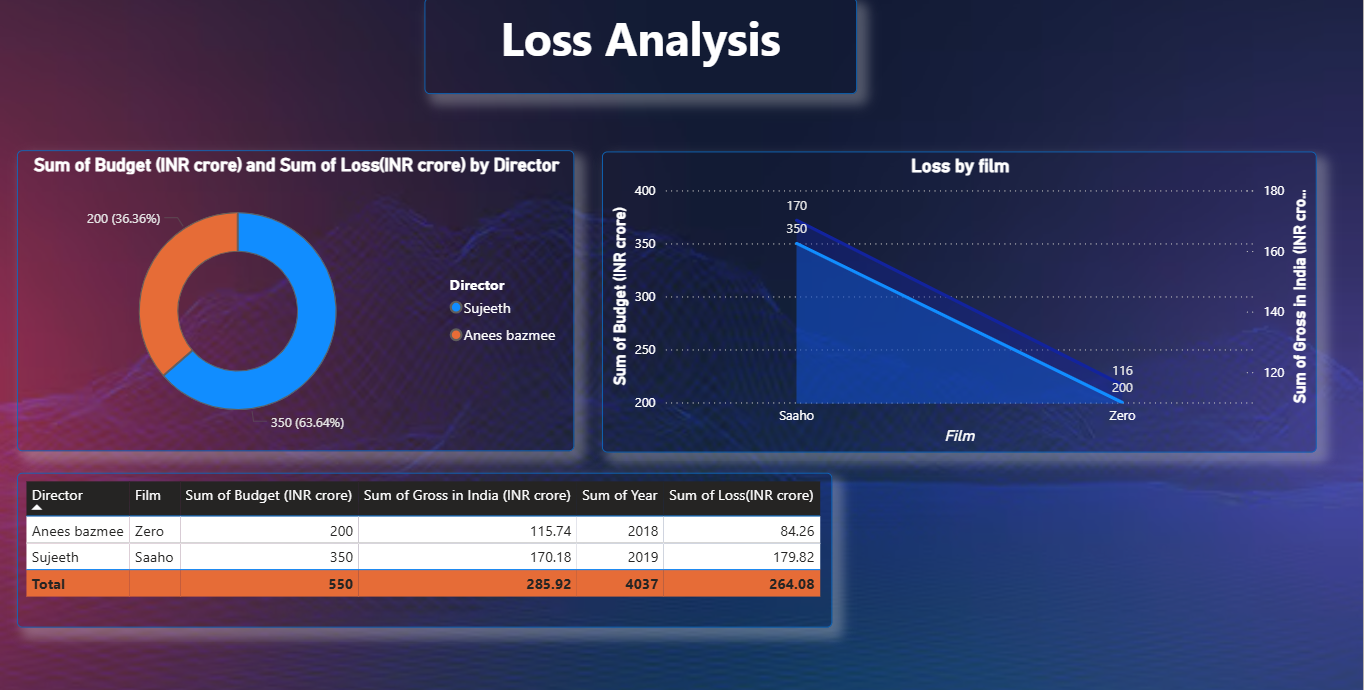

The page's visual inventory and layout, read from the dashboard file:
{"tool":"powerbi","page":{"name":"Page 4","canvas":[1280,720],"ordinal":3},"visuals":[{"type":"donutChart","fields":{"Category":["Highest grossing Indian movies.Director"],"Y":["Highest grossing Indian movies.Budget (INR crore)"]},"box":[27.9,154.7,518.6,280.2],"z":0},{"type":"areaChart","title":"Loss by film","fields":{"Category":["Highest grossing Indian movies.Film"],"Y":["Highest grossing Indian movies.Budget (INR crore)"],"Y2":["Highest grossing Indian movies.Gross in India (INR crore)"]},"box":[572.1,155.8,665.1,280.2],"z":1000},{"type":"textbox","box":[407,12.8,402.3,89.5],"z":2000},{"type":"tableEx","fields":{"Values":["Highest grossing Indian movies.Director","Highest grossing Indian movies.Film","Highest grossing Indian movies.Budget (INR crore)","Highest grossing Indian movies.Gross in India (INR crore)","Highest grossing Indian movies.Year","Highest grossing Indian movies.Loss(INR crore)"]},"box":[27.9,454.7,758.1,144.2],"z":3000}]}

Visuals, with their boxes on the page's 1280x720 design canvas (x1, y1, x2, y2). These are canvas units, not pixel positions in the 1364x690 screenshot, which may show the page scaled, cropped or inside an application window:
donutChart - Highest grossing Indian movies.Director x Highest grossing Indian movies.Budget (INR crore): detection(28, 155, 546, 435)
"Loss by film" areaChart: detection(572, 156, 1237, 436)
textbox: detection(407, 13, 809, 102)
tableEx - Highest grossing Indian movies.Director x Highest grossing Indian movies.Film: detection(28, 455, 786, 599)
